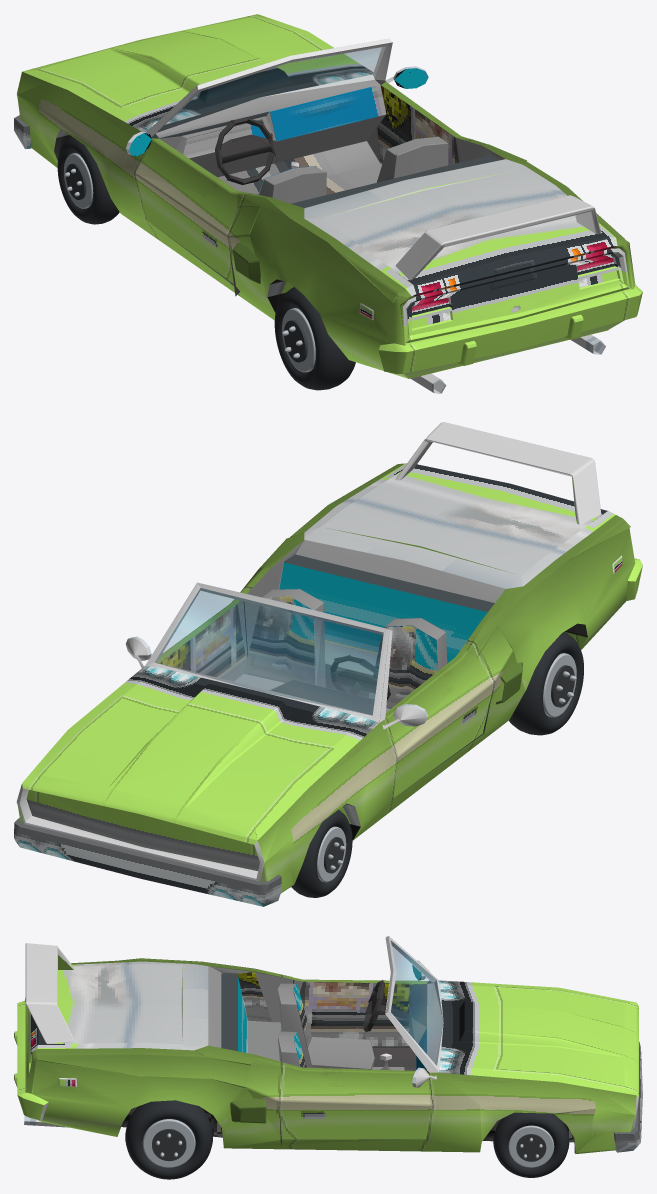
The model's file is car-homer_v.glb.
3 views of the same model, one above another, from view 1: azimuth 30°, elevation 25°; view 2: azimuth 150°, elevation 25°; view 3: azimuth 270°, elevation 25° (orthographic). The views are drawn at different scales.
Visible parts, largest first — view 1: homer_vShape.004, homer_vShape.002, homer_vShape.007, HoodRotShape.002, TrunkRotShape.002, DoorDRotShape.011, homer_vShape.008, TrunkRotShape.003, homer_vShape.003, homer_vShape.006, Rounded tire.010, DoorPRotShape.011 (+6 smaller); view 2: HoodRotShape.002, homer_vShape.007, homer_vShape.004, homer_vShape.006, homer_vShape.008, TrunkRotShape.002, DoorDRotShape.011, homer_vShape.003, homer_vShape.002, TrunkRotShape.003, DoorPRotShape.011, Rounded tire.010 (+5 smaller); view 3: homer_vShape.004, HoodRotShape.002, homer_vShape.007, DoorPRotShape.010, TrunkRotShape.002, homer_vShape.005, homer_vShape.002, DoorDRotShape.012, homer_vShape.006, homer_vShape.008, Rounded tire.011, TrunkRotShape.003 (+8 smaller).
Boxes of the visible parts, <box> form: homer_vShape.004: <box>17,72,635,378</box>; homer_vShape.002: <box>151,74,642,373</box>; homer_vShape.007: <box>129,68,505,208</box>; HoodRotShape.002: <box>40,17,364,124</box>; TrunkRotShape.002: <box>321,170,612,293</box>; DoorDRotShape.011: <box>135,138,243,283</box>; homer_vShape.008: <box>166,47,381,123</box>; TrunkRotShape.003: <box>395,195,601,280</box>; homer_vShape.003: <box>16,38,605,393</box>; homer_vShape.006: <box>14,14,373,297</box>; Rounded tire.010: <box>274,287,355,390</box>; DoorPRotShape.011: <box>377,85,462,165</box>; HoodRotShape.002: <box>40,667,365,827</box>; homer_vShape.007: <box>159,540,505,715</box>; homer_vShape.004: <box>17,463,635,893</box>; homer_vShape.006: <box>14,632,587,906</box>; homer_vShape.008: <box>154,588,383,715</box>; TrunkRotShape.002: <box>321,464,607,575</box>; DoorDRotShape.011: <box>385,650,494,797</box>; homer_vShape.003: <box>16,555,622,881</box>; homer_vShape.002: <box>304,463,642,600</box>; TrunkRotShape.003: <box>395,422,601,524</box>; DoorPRotShape.011: <box>159,601,247,681</box>; Rounded tire.010: <box>509,632,583,735</box>; homer_vShape.004: <box>24,958,636,1153</box>; HoodRotShape.002: <box>440,983,624,1086</box>; homer_vShape.007: <box>208,965,443,1087</box>; DoorPRotShape.010: <box>279,1065,432,1139</box>; TrunkRotShape.002: <box>31,954,182,1049</box>; homer_vShape.005: <box>225,1054,481,1152</box>; homer_vShape.002: <box>14,961,442,1120</box>; DoorDRotShape.012: <box>293,980,423,1046</box>; homer_vShape.006: <box>439,980,642,1152</box>; homer_vShape.008: <box>391,941,443,1065</box>; Rounded tire.011: <box>125,1100,212,1179</box>; TrunkRotShape.003: <box>25,943,74,1043</box>.
Size of the model in its own units: 2.37 by 1.51 by 5.3.
Materials: 12 (9 with a texture image).
